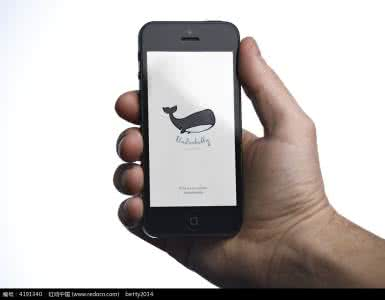phone: (138, 20, 240, 233)
